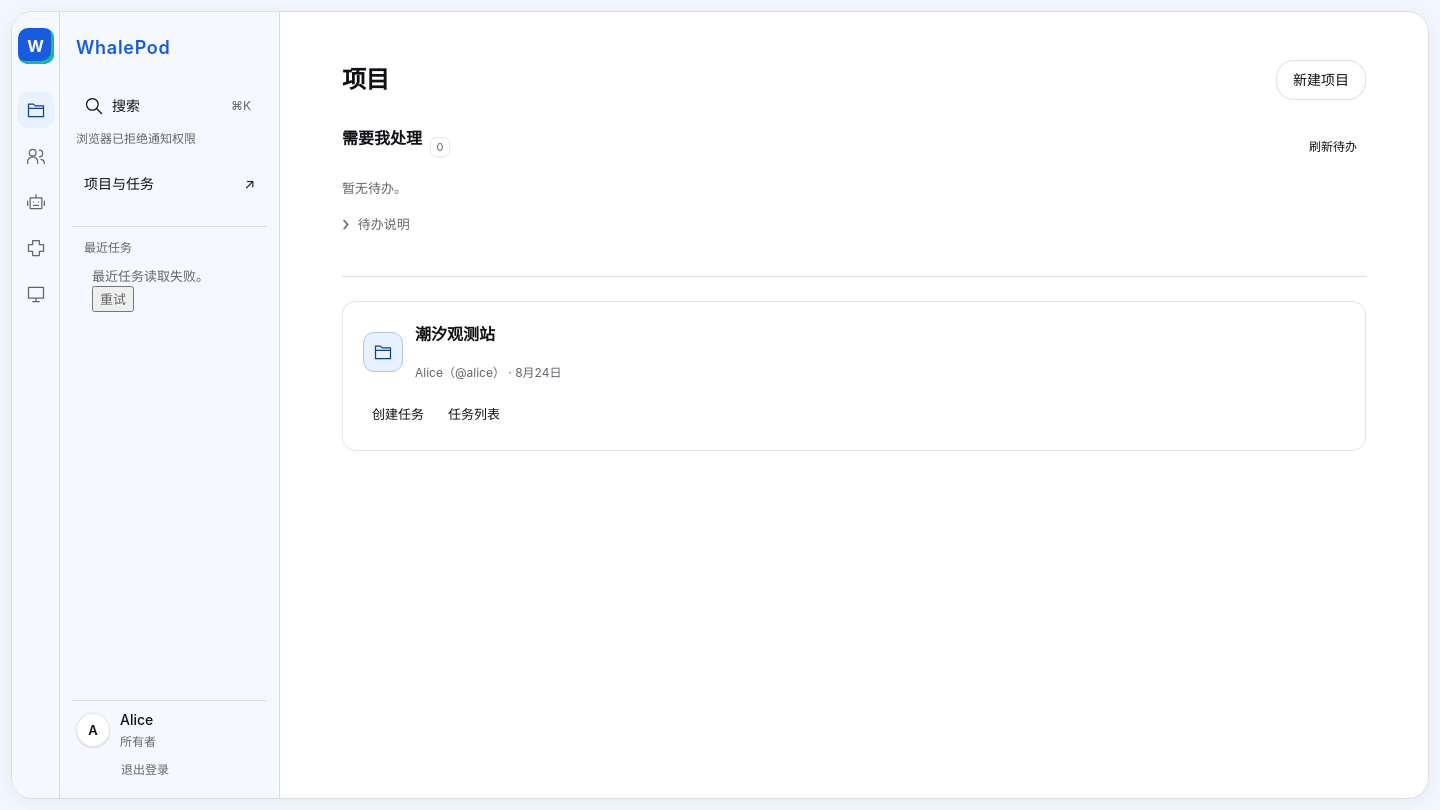
Test case: #348 创建任务失败：候选失效翻成人话 + 引导 › Agent 变体：归档拒绝 → Agent 支的引导与提示（DOM 面，不只在纯函数里）
Click the button "创建任务" at x=398, y=414, box x1=363 y1=398 x2=433 y2=430
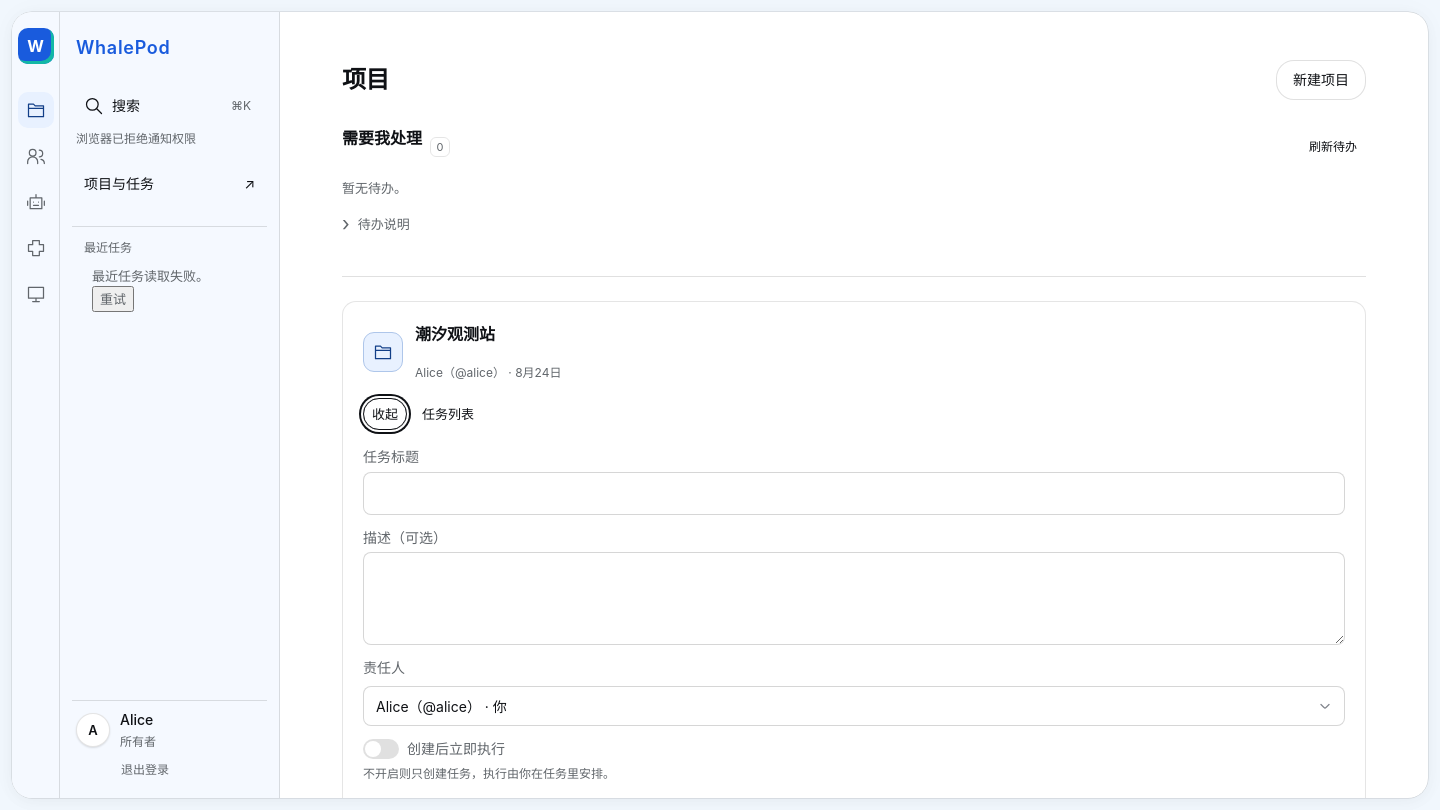
Type "让 Agent 写发布说明" into the field labelled "任务标题" at x=854, y=493, box x1=363 y1=472 x2=1345 y2=515
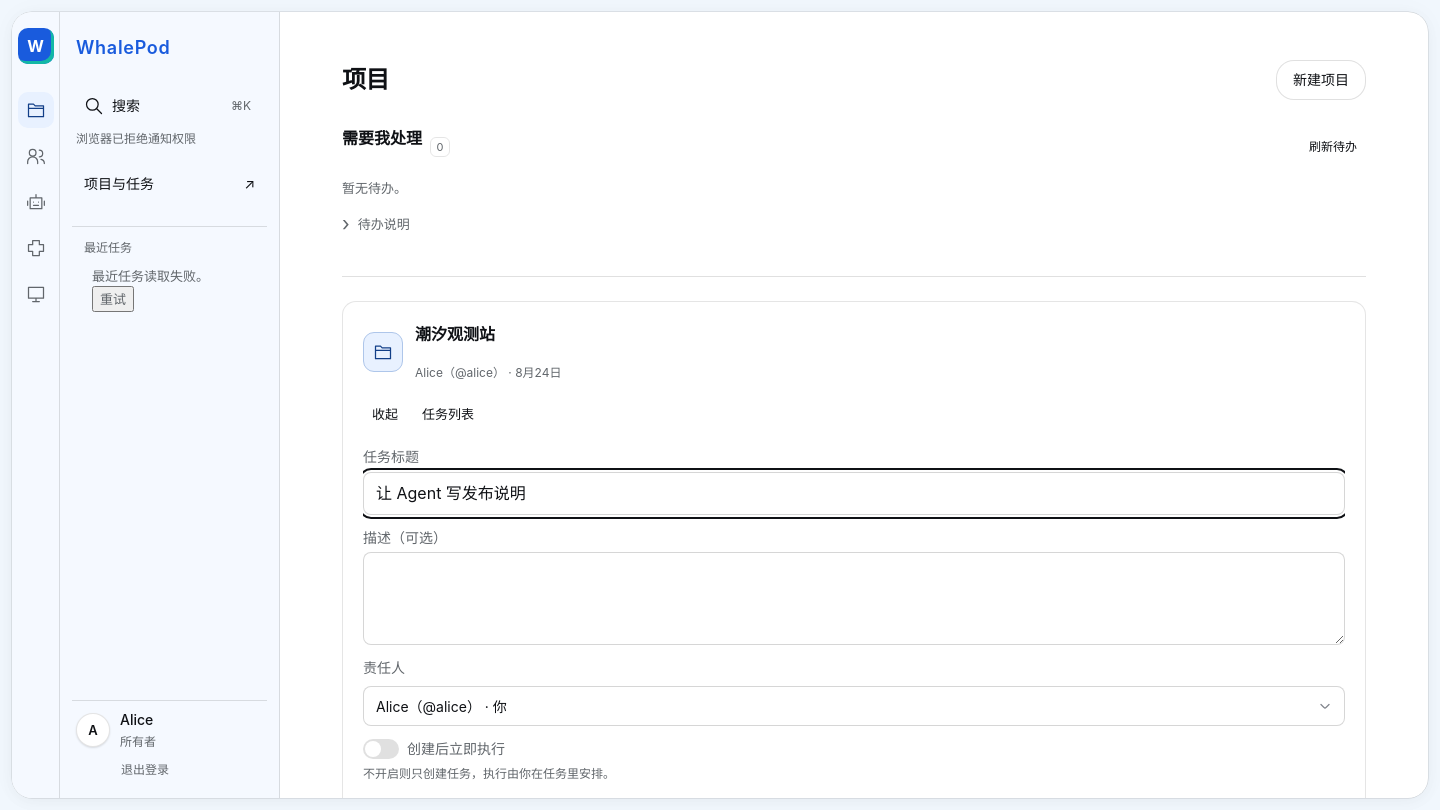
Click the switch named "创建后立即执行" at x=381, y=749, box x1=363 y1=739 x2=399 y2=759
(page scrolled)
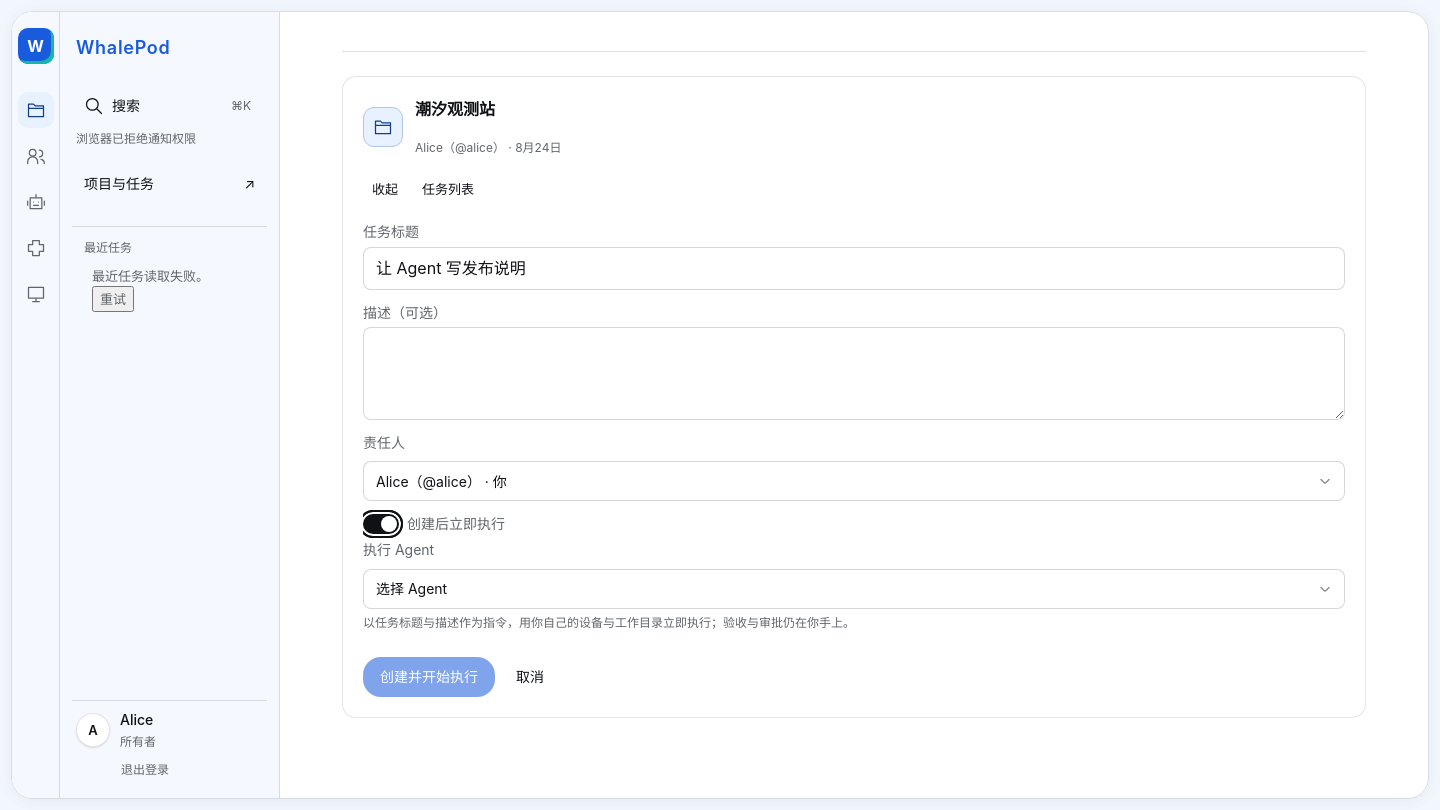
Click the button named "执行 Agent" at x=412, y=588, box x1=363 y1=569 x2=1345 y2=609
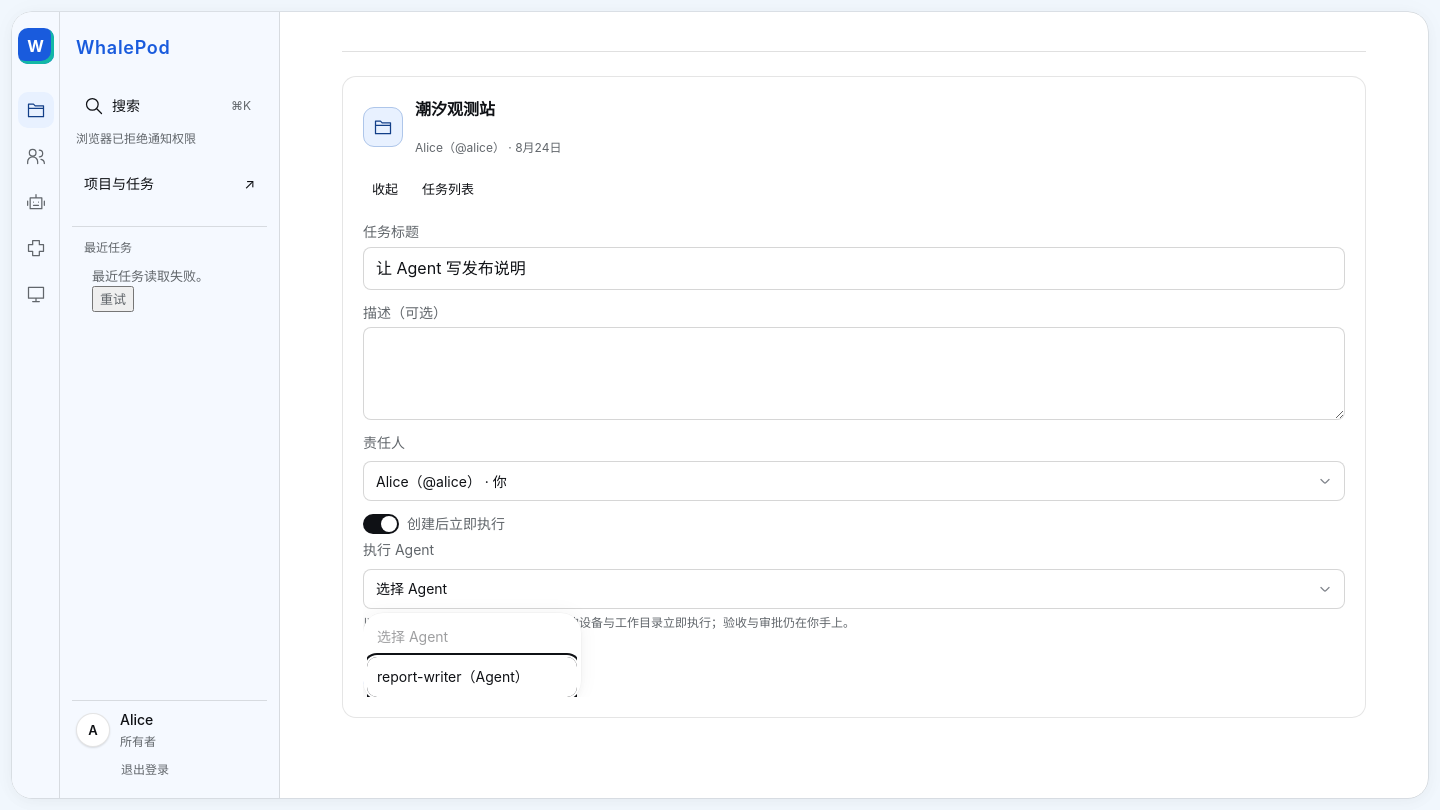
Click the menu item "report-writer（Agent）" at x=472, y=677, box x1=367 y1=657 x2=577 y2=697
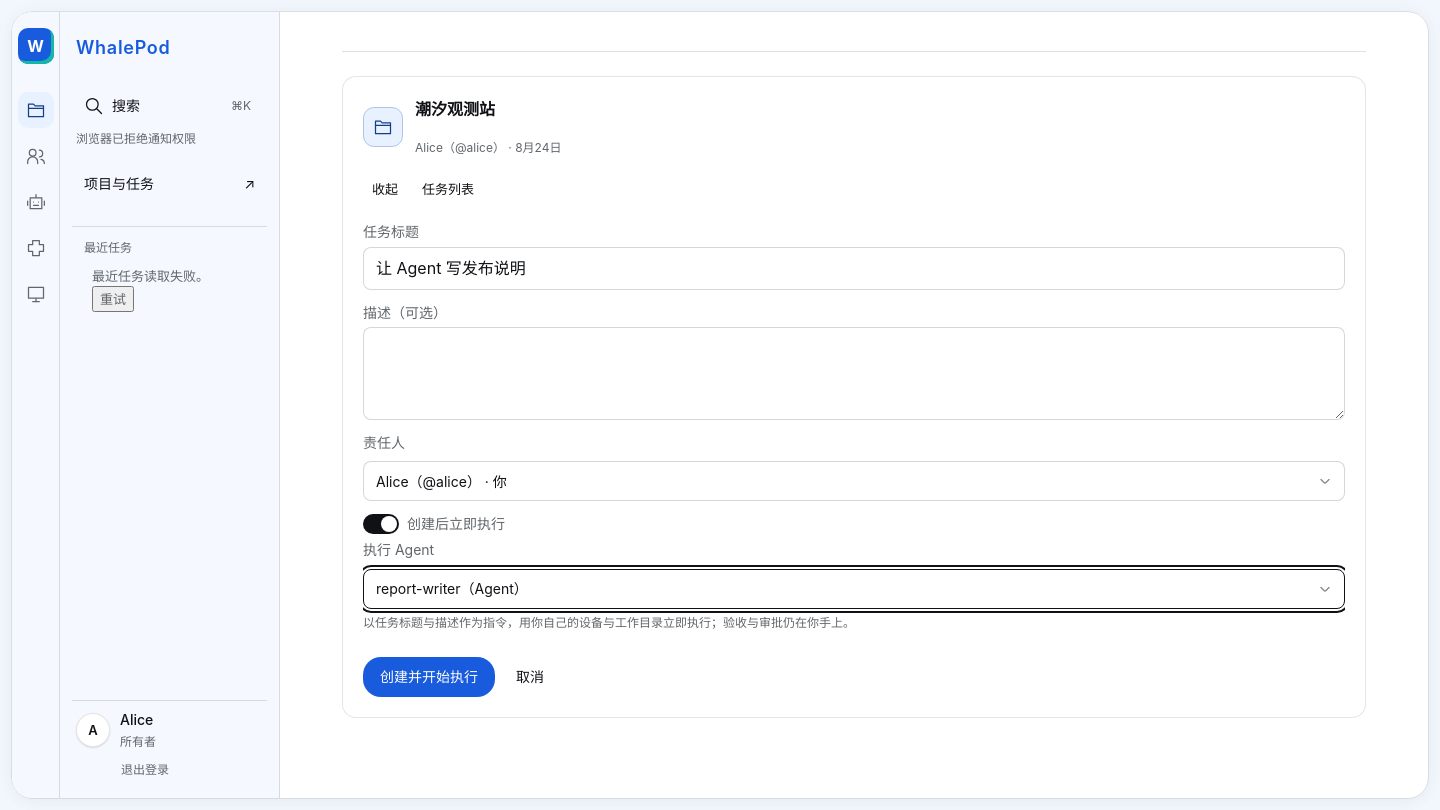
Click the button "创建并开始执行" at x=429, y=677, box x1=363 y1=657 x2=495 y2=697
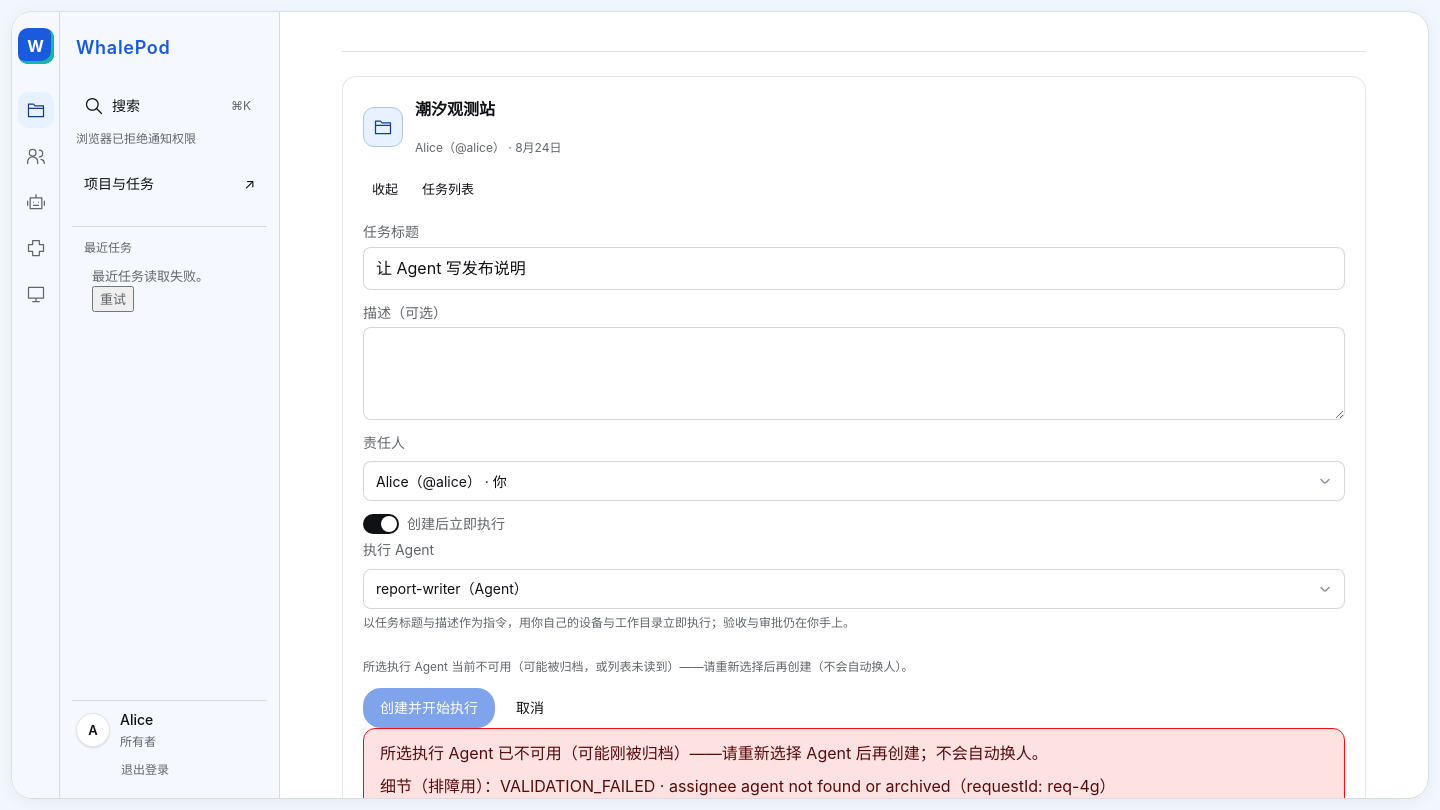
Expected: the text with test id "error-guidance" shows "请重新选择 Agent", x1=380 y1=743 x2=1048 y2=763
Expected: the message with test id "selection-unavailable-hint" shows "所选执行 Agent 当前不可用", x1=363 y1=659 x2=679 y2=674
